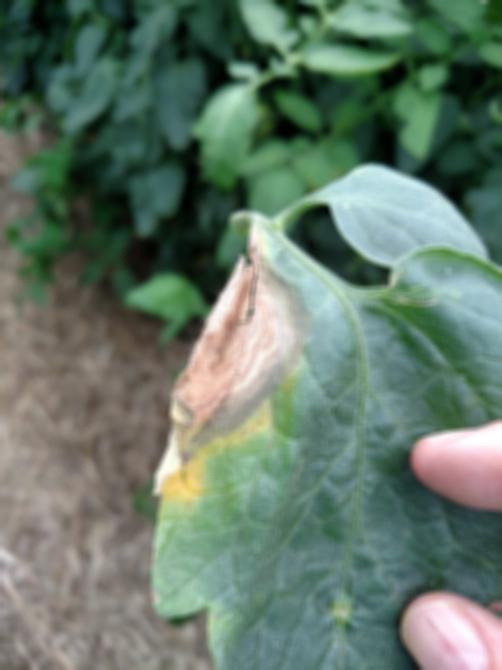Tomato mold leaf: (144, 158, 501, 670)
